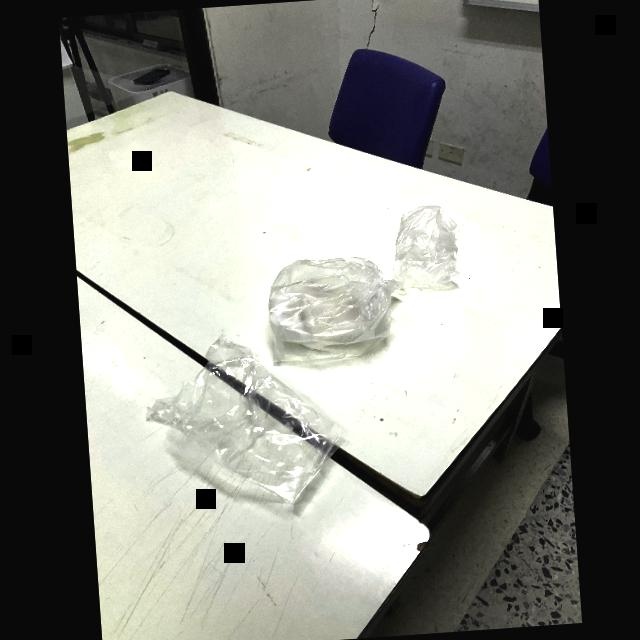plastic_bag: (262, 245, 404, 365)
scrap_plastic: (152, 332, 336, 513), (377, 188, 485, 298)
